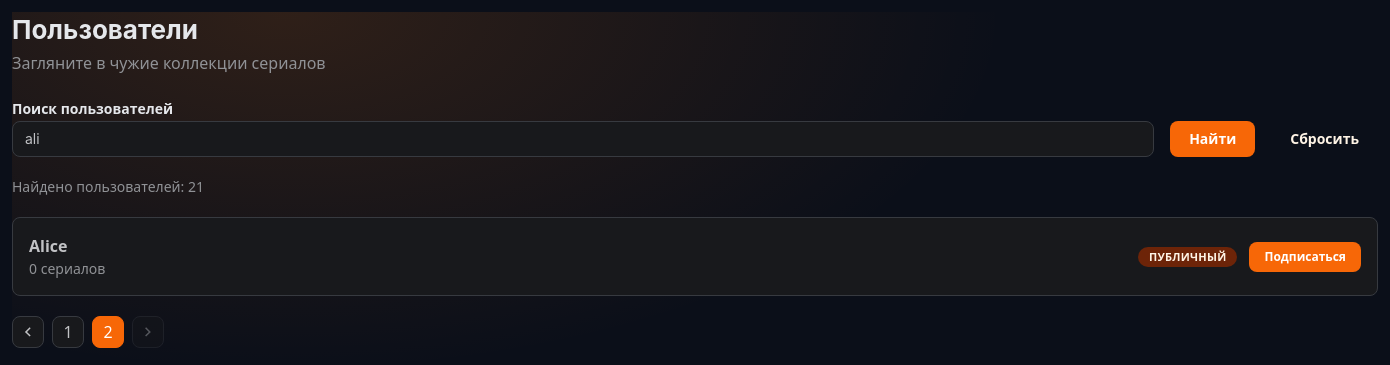
Test: returns from a profile to the same directory search and page
Click the link "Alice 0 сериалов" at {"x": 67, "y": 256}, box [29,235,105,278]
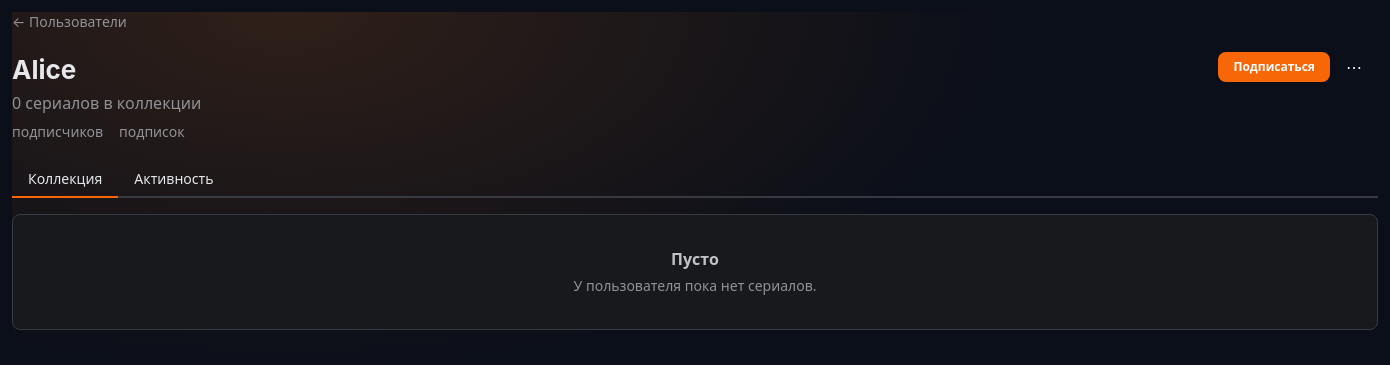
Click the link "← Пользователи" at {"x": 69, "y": 22}, box [12,12,127,31]
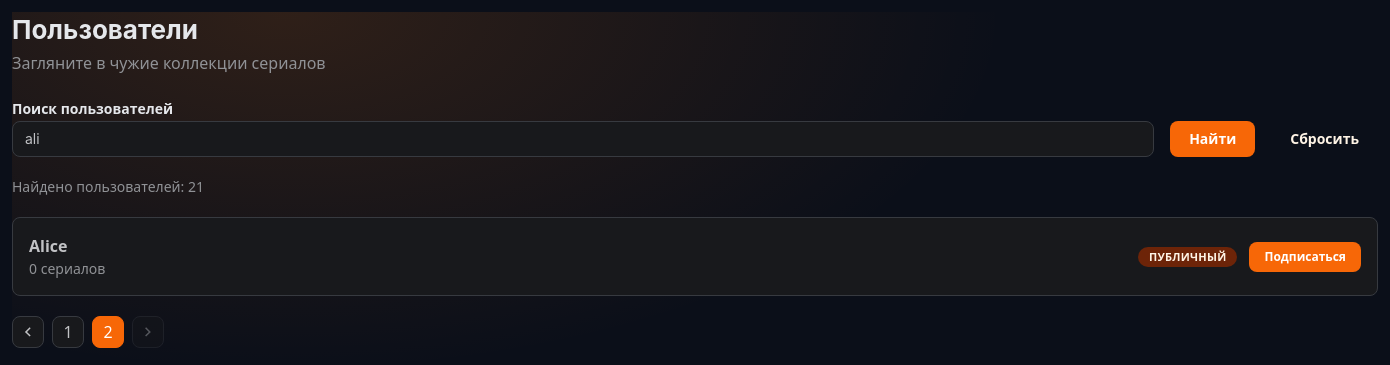
Now the field labelled "Поиск пользователей" holds "ali", box [12,121,1154,157]
